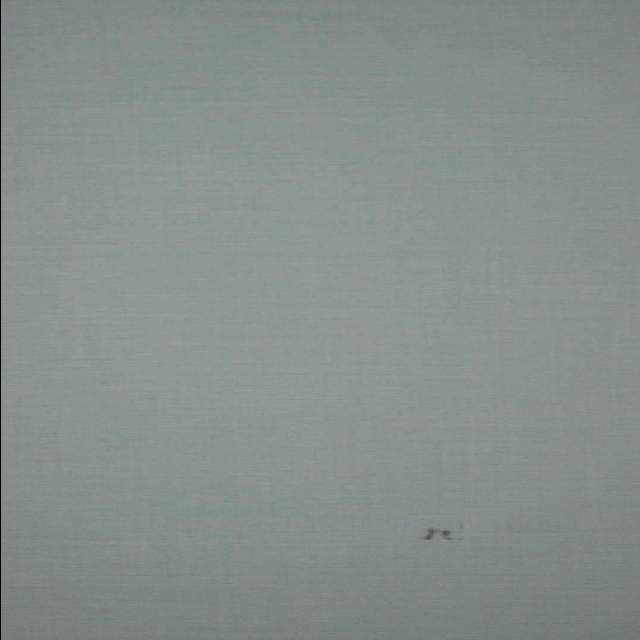dirty: (424, 528, 456, 542)
